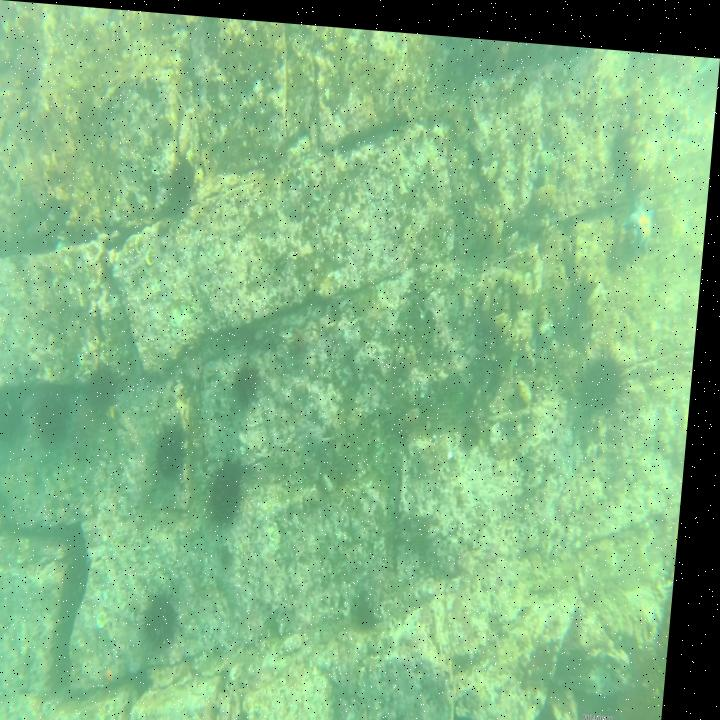echinus: (583, 335, 633, 410), (212, 444, 259, 520), (41, 386, 83, 446), (160, 420, 199, 480), (151, 588, 190, 646), (76, 391, 111, 453), (169, 146, 201, 206), (90, 360, 125, 412), (235, 360, 272, 407), (0, 391, 30, 445)
starfish: (625, 181, 662, 242)
